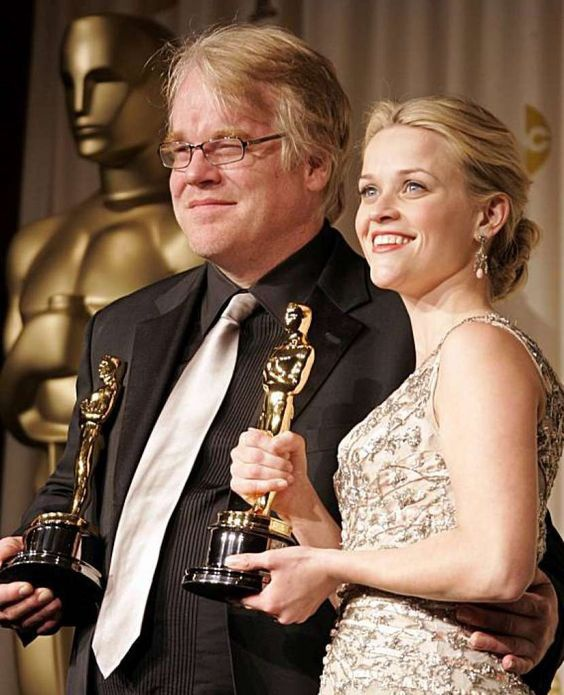hand: (0, 545, 49, 633)
